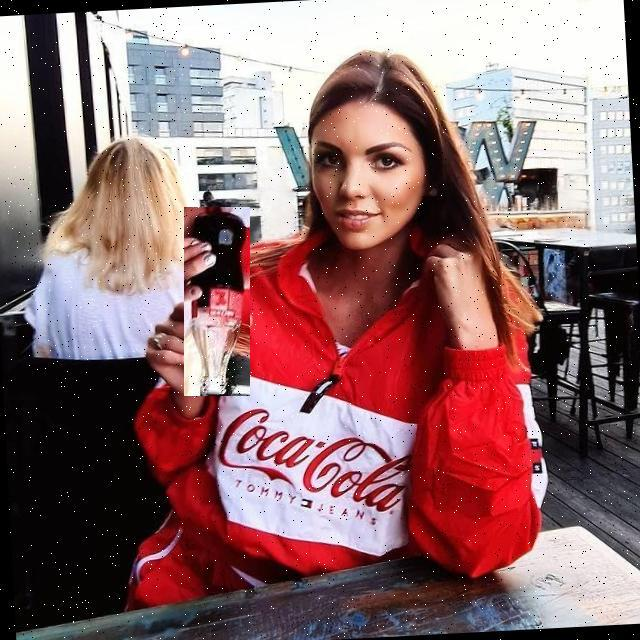coca-cola: (184, 207, 250, 396)
